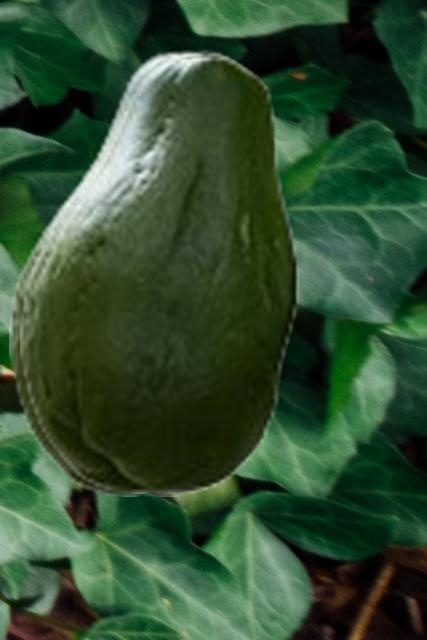sayote: (9, 49, 289, 495), (20, 53, 298, 492)
